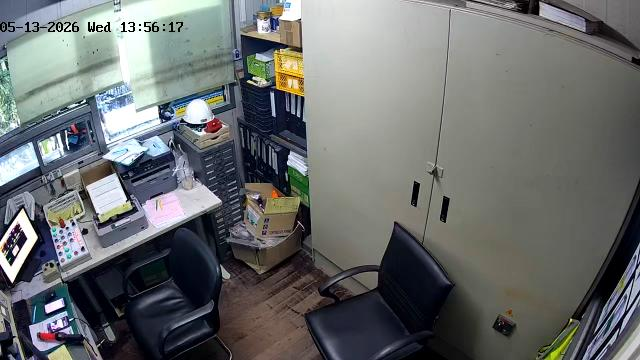Phone: (44, 298, 65, 314), (47, 316, 68, 332)
